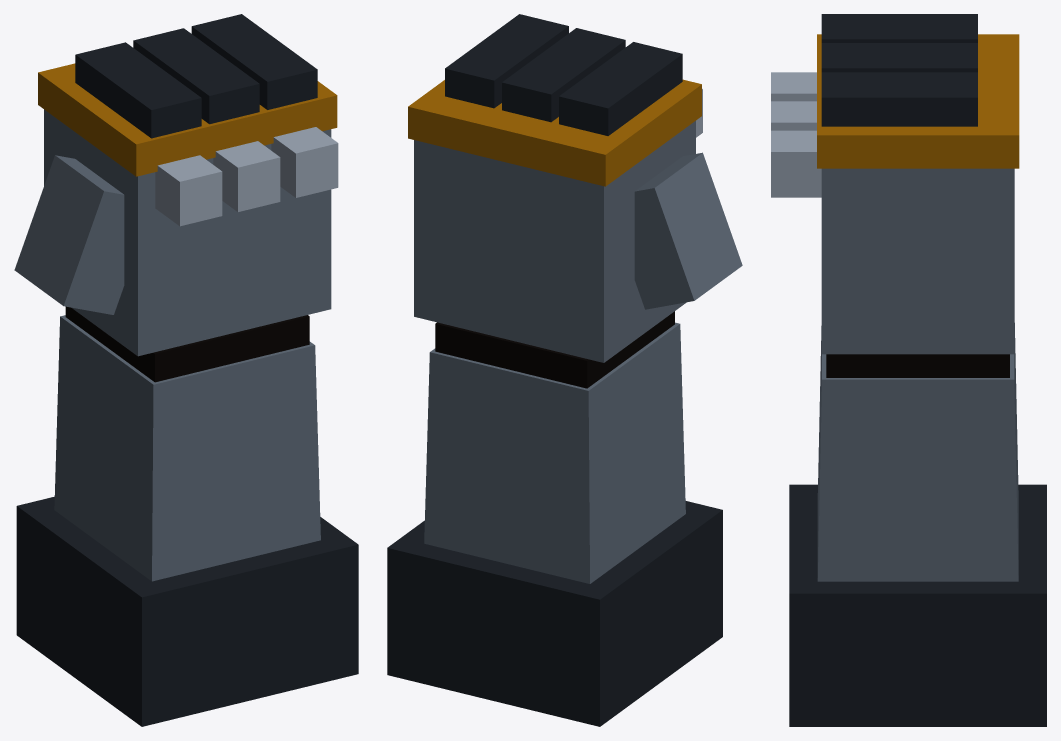
Rendered from GuanteletePesado_low.fbx.
3 renders of one model, left to right at view 1: azimuth 30°, elevation 25°; view 2: azimuth 150°, elevation 25°; view 3: azimuth 270°, elevation 25°, orthographic. The views are drawn at different scales.
Visible parts, largest first — view 1: GuanteletePesado_low; view 2: GuanteletePesado_low; view 3: GuanteletePesado_low.
Part boxes in pixels (<box>): GuanteletePesado_low: <box>14,14,358,726</box>; GuanteletePesado_low: <box>387,14,742,726</box>; GuanteletePesado_low: <box>771,14,1046,726</box>.
Size of the model in its own units: 34.37 by 74 by 30.
